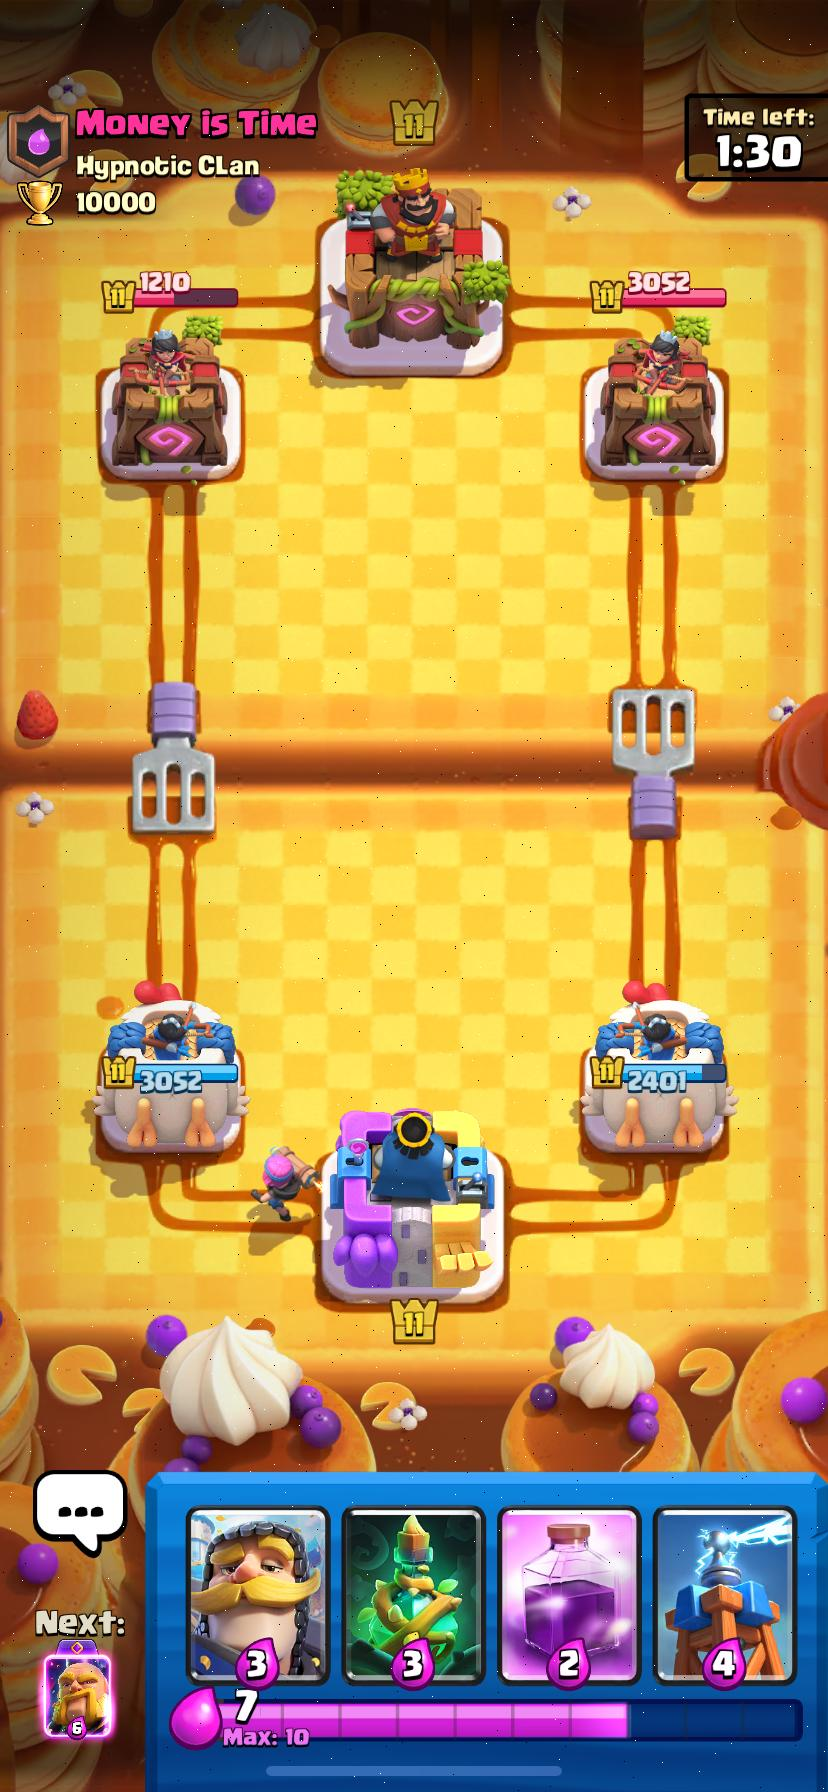EKingTower: (344, 169, 508, 350)
EnemyPrincessTower: (112, 330, 226, 472), (600, 331, 714, 472)
OFirecrack: (252, 1146, 321, 1222)
OwnKingTower: (321, 1109, 503, 1305)
OwnPrincessTower: (580, 982, 735, 1153), (93, 983, 248, 1152)
